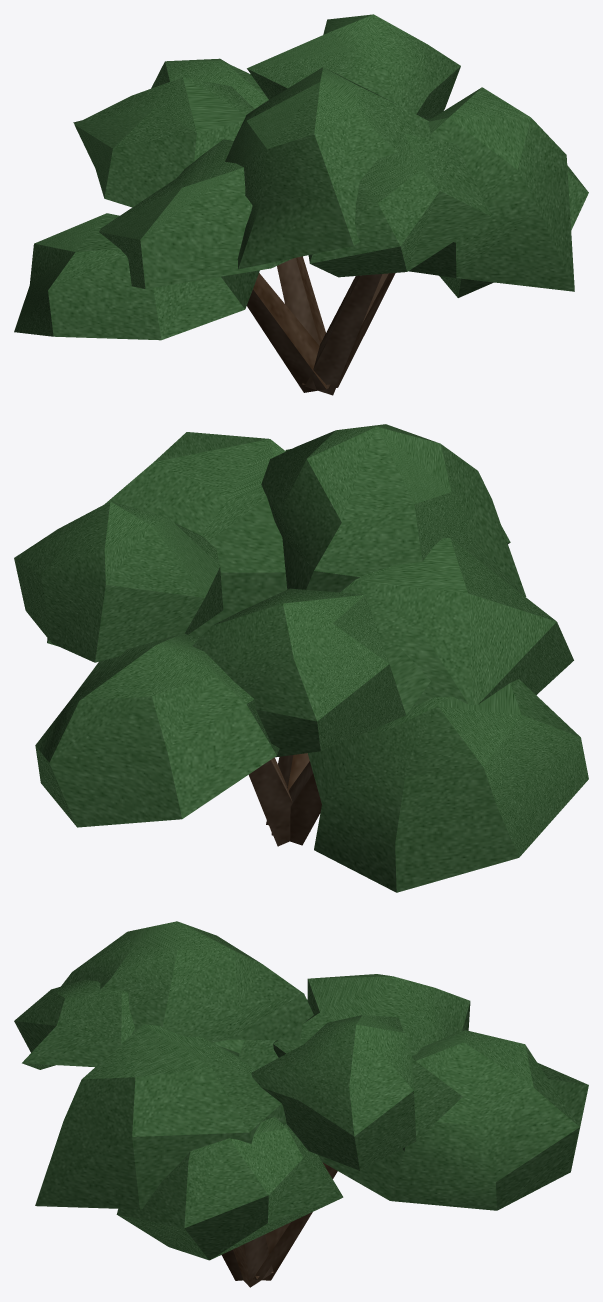
The model's file is bush_8.glb.
3 renders of one model, top to bottom at view 1: azimuth 30°, elevation 25°; view 2: azimuth 150°, elevation 25°; view 3: azimuth 270°, elevation 25°, orthographic. The views are drawn at different scales.
Visible parts, largest first — view 1: bush_8; view 2: bush_8; view 3: bush_8.
Boxes of the visible parts, x1=… form: bush_8: x1=14, y1=14, x2=588, y2=395; bush_8: x1=14, y1=424, x2=588, y2=892; bush_8: x1=14, y1=921, x2=588, y2=1287.
Size of the model in its own units: 2.06 by 1.37 by 2.09.
2 materials, 2 textured.
